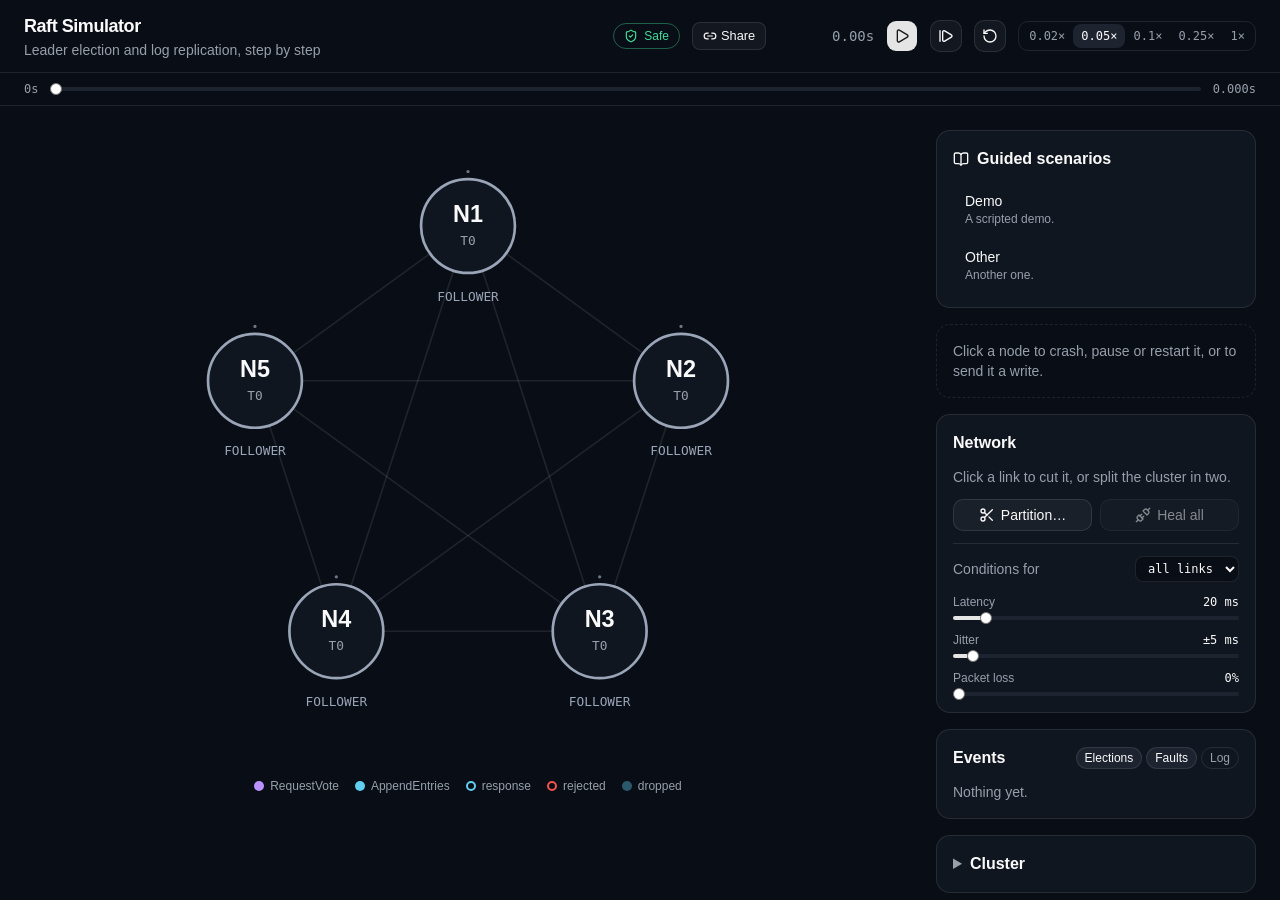
Test: lists scenarios; picking one shows its narration and rebuilds the cluster
Click the button "Demo A scripted demo.".
click(984, 201)  # box [953,183,1239,235]
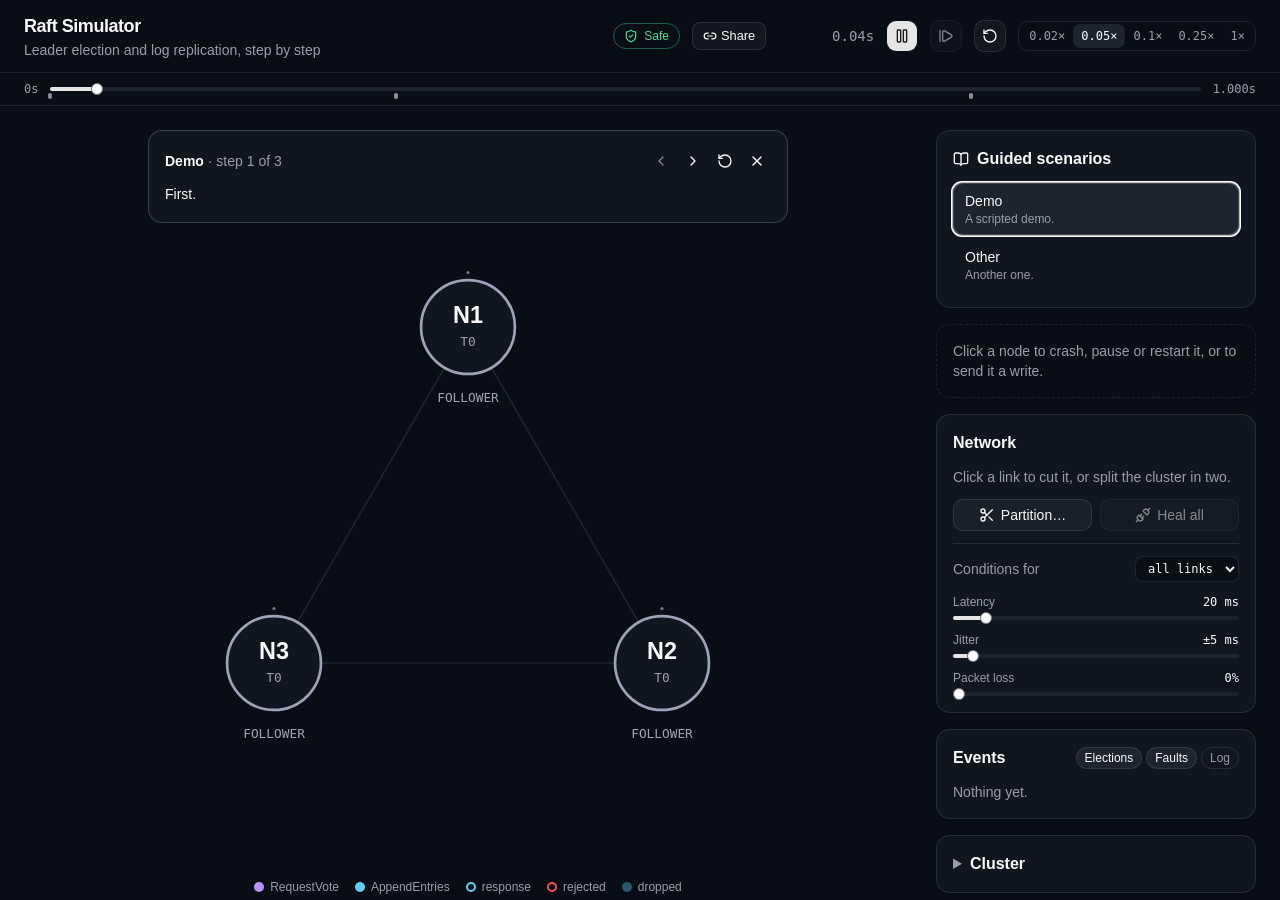
Expected: the heading "Demo · step 1 of 3" is shown, [165,151,282,171]
Expected: the text "First." is shown, [165,186,196,202]
